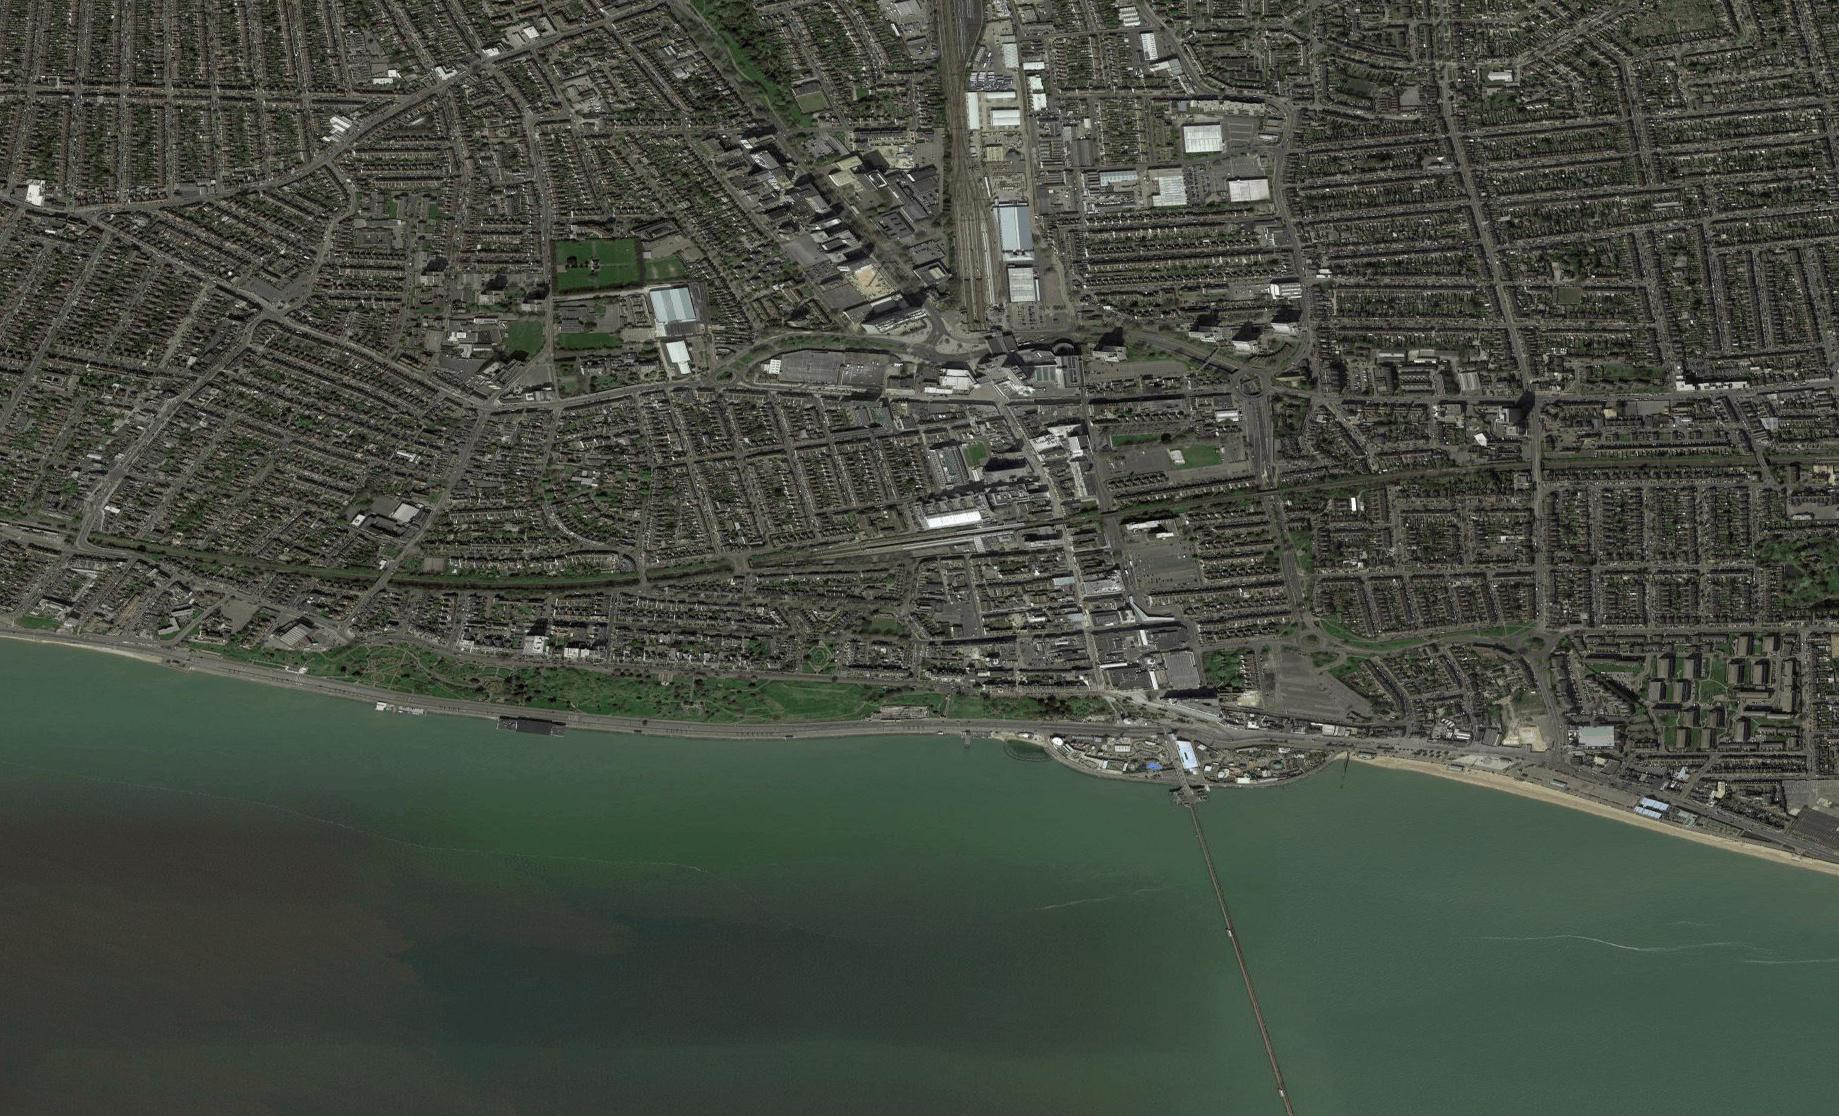harbor: (1042, 717, 1333, 819)
industrial: (619, 288, 713, 381)
motorway: (370, 687, 558, 730), (558, 706, 745, 750), (1, 620, 187, 663), (181, 653, 366, 696), (958, 712, 1166, 750), (747, 710, 955, 748)
train_station: (942, 95, 1065, 337)
